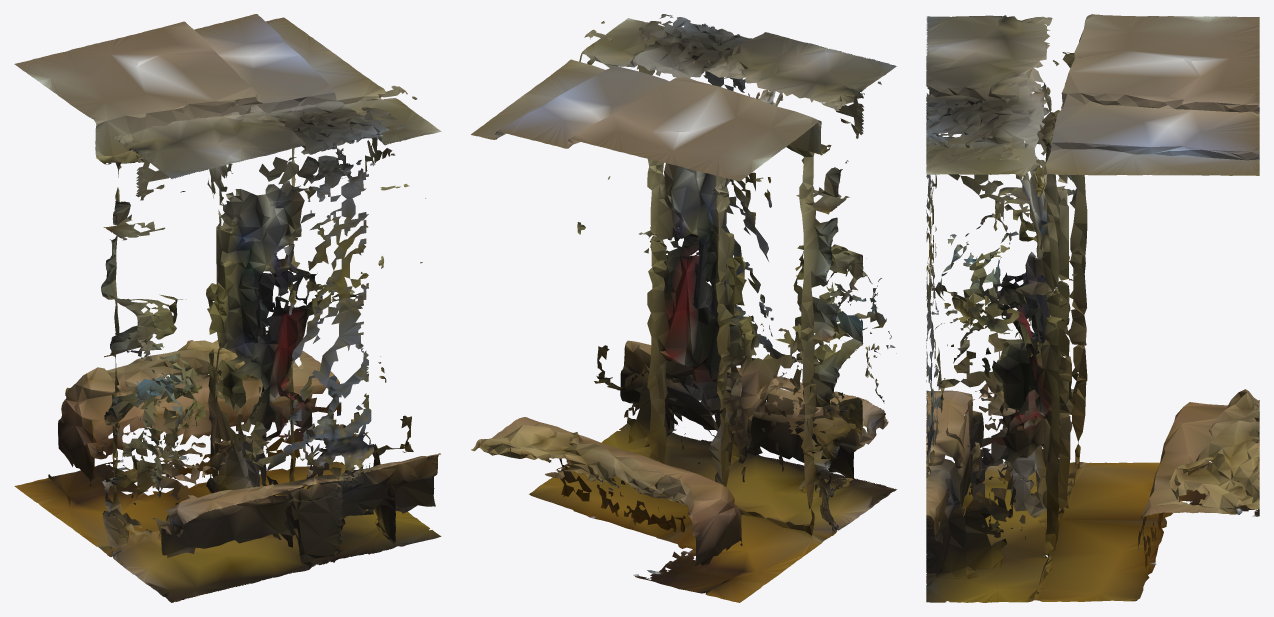
File: coarse.glb
The picture shows the model from 3 angles, left to right: view 1: azimuth 30°, elevation 25°; view 2: azimuth 150°, elevation 25°; view 3: azimuth 270°, elevation 25°; orthographic projection. The views are drawn at different scales.
Bounding box in the file's own units: 1.89 × 2.85 × 1.91.
